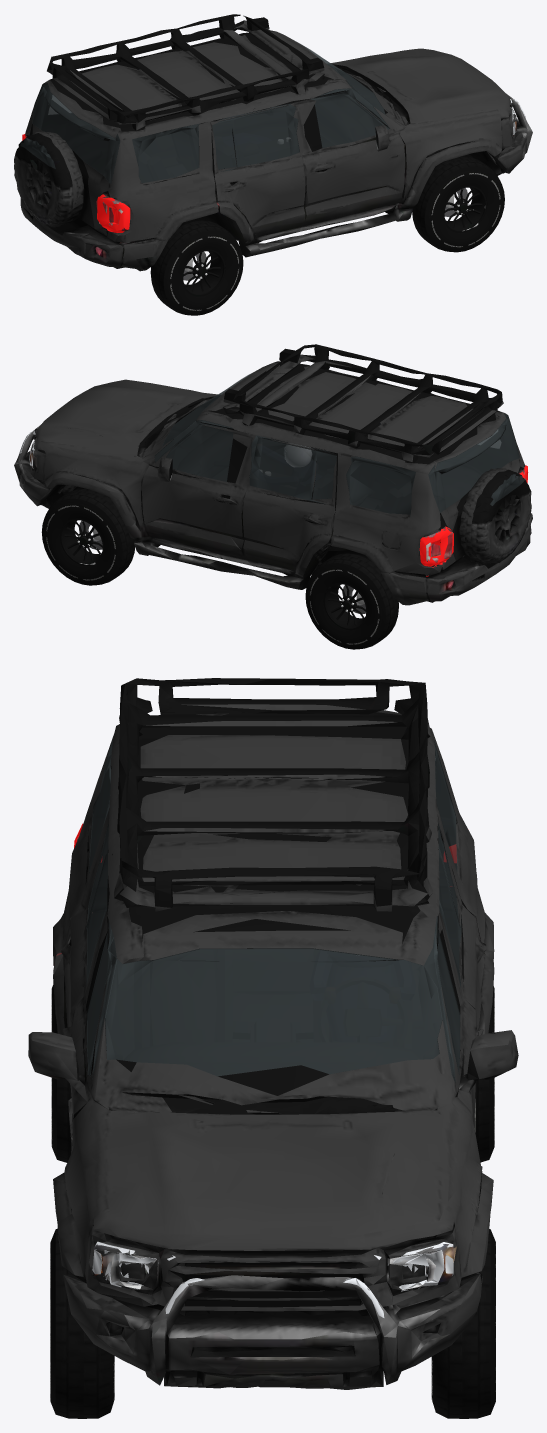
The model's file is rb_ridgeback_drive.glb.
The picture shows the model from 3 angles, top to bottom: view 1: azimuth 30°, elevation 25°; view 2: azimuth 150°, elevation 25°; view 3: azimuth 270°, elevation 25°; orthographic projection. The views are drawn at different scales.
Visible parts, largest first — view 1: body, glass, interior, tyre_RR, tyre_FR, window_R, rim_FR, rim_RR, taillight_lens, driver; view 2: body, glass, tyre_RL, tyre_FL, interior, window_L, driver, rim_FL, rim_RL, taillight_lens; view 3: body, glass, interior, tyre_FR, tyre_FL, driver, headlight_lens, steering_wheel, window_L, window_R, tyre_RR, tyre_RL.
Boxes of the visible parts, left/top/right/bottom form: body: left=14, top=14, right=532, bottom=271; glass: left=20, top=38, right=386, bottom=183; interior: left=116, top=96, right=369, bottom=182; tyre_RR: left=150, top=220, right=243, bottom=315; tyre_FR: left=412, top=156, right=504, bottom=252; window_R: left=311, top=88, right=389, bottom=147; rim_FR: left=443, top=185, right=486, bottom=232; rim_RR: left=181, top=249, right=225, bottom=296; taillight_lens: left=22, top=134, right=130, bottom=232; driver: left=221, top=114, right=271, bottom=146; body: left=14, top=344, right=532, bottom=605; glass: left=162, top=373, right=524, bottom=516; tyre_RL: left=305, top=553, right=398, bottom=649; tyre_FL: left=41, top=489, right=134, bottom=585; interior: left=177, top=428, right=433, bottom=514; window_L: left=154, top=420, right=233, bottom=481; driver: left=251, top=444, right=322, bottom=498; rim_FL: left=60, top=518, right=104, bottom=566; rim_RL: left=323, top=582, right=367, bottom=630; taillight_lens: left=419, top=465, right=528, bottom=576; body: left=28, top=678, right=518, bottom=1389; glass: left=86, top=738, right=461, bottom=1076; interior: left=107, top=949, right=437, bottom=1075; tyre_FR: left=50, top=1228, right=114, bottom=1418; tyre_FL: left=431, top=1229, right=495, bottom=1418; driver: left=310, top=950, right=415, bottom=1043; headlight_lens: left=92, top=1241, right=453, bottom=1317; steering_wheel: left=317, top=977, right=407, bottom=1046; window_L: left=424, top=916, right=460, bottom=1082; window_R: left=86, top=922, right=116, bottom=1079; tyre_RR: left=51, top=984, right=71, bottom=1162; tyre_RL: left=475, top=986, right=494, bottom=1162.
Size of the model in its own units: 4.8 by 2.04 by 2.19.
Materials: 9 (6 with a texture image).
